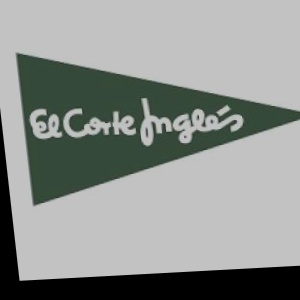corte_ingles: (286, 1, 300, 77)
